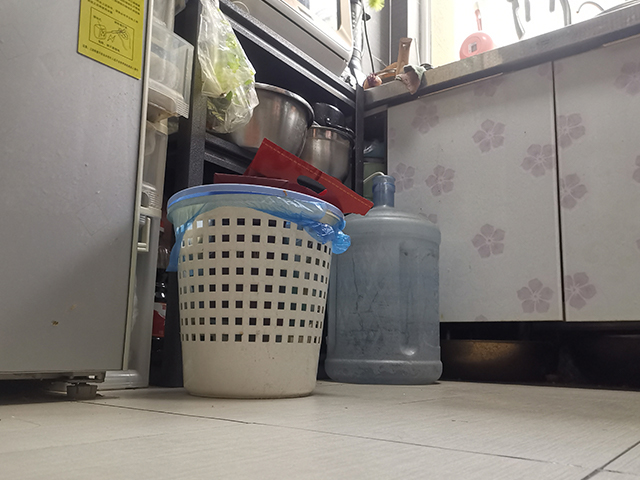cabinet: (364, 1, 640, 392)
trashcan: (163, 182, 345, 399)
